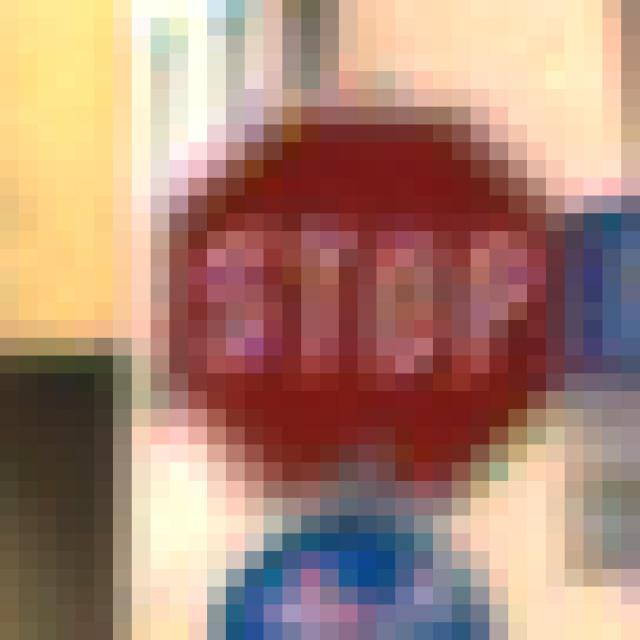STOP: (95, 108, 528, 552)
